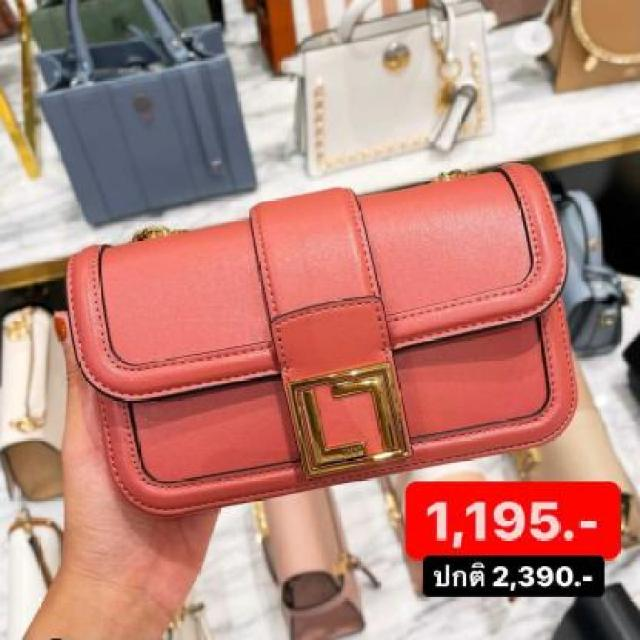Bag: (3, 128, 608, 530)
